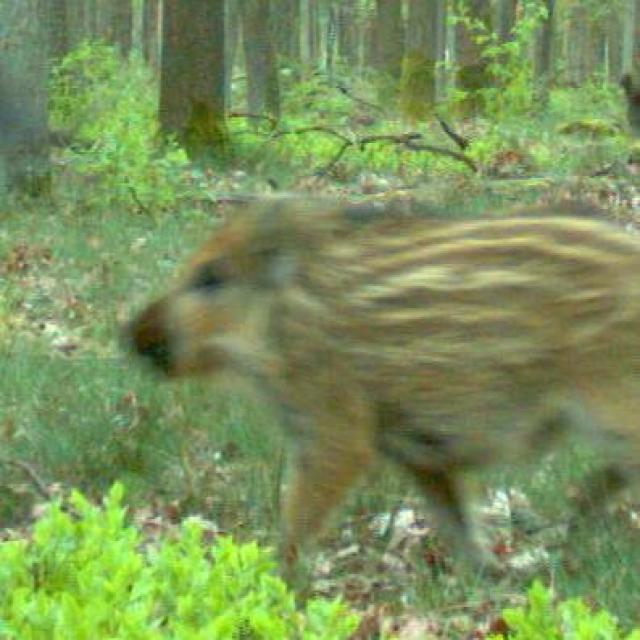pig: (121, 185, 640, 540)
